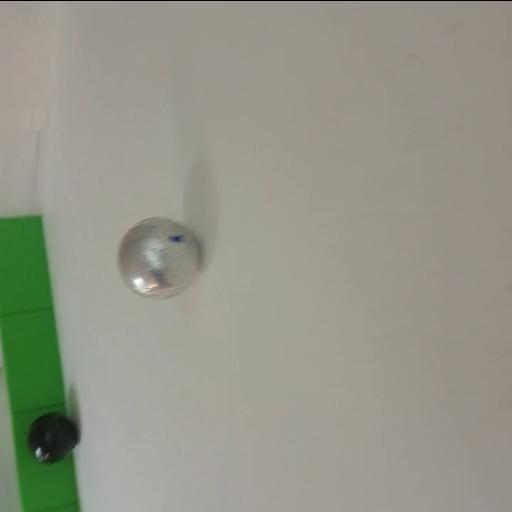alive: (117, 217, 202, 299)
dead: (26, 412, 78, 464)
